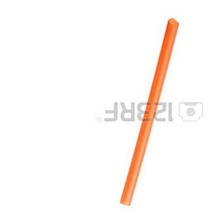drinking_straw: (114, 14, 185, 210)
